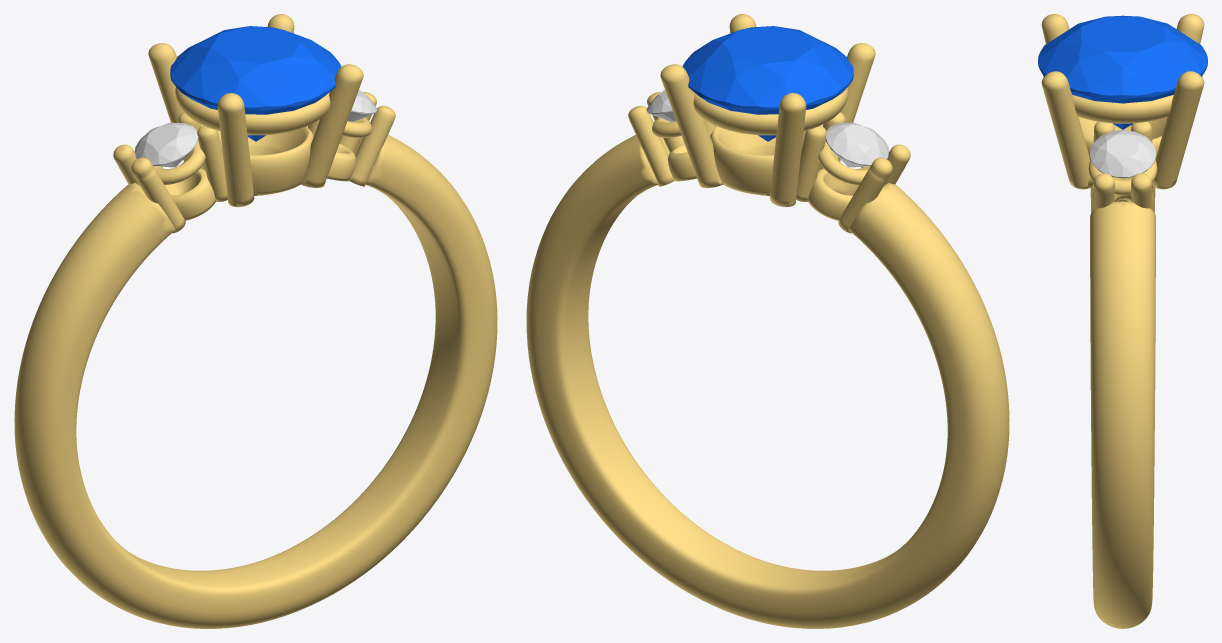
Rendered from bluesapphire-round-yellowgold-4prong-straightband-2stone.glb.
3 views of the same model, side by side, from view 1: azimuth 30°, elevation 25°; view 2: azimuth 150°, elevation 25°; view 3: azimuth 270°, elevation 25° (orthographic).
Visible parts, largest first — view 1: metal, stone, side.001; view 2: metal, stone, side.001; view 3: metal, stone, side.
Boxes of the visible parts, x1=… form: metal: x1=14, y1=14, x2=497, y2=628; stone: x1=170, y1=26, x2=341, y2=141; side.001: x1=134, y1=122, x2=198, y2=167; metal: x1=526, y1=14, x2=1009, y2=628; stone: x1=682, y1=26, x2=853, y2=141; side.001: x1=825, y1=122, x2=889, y2=167; metal: x1=1041, y1=14, x2=1204, y2=628; stone: x1=1038, y1=15, x2=1207, y2=129; side: x1=1090, y1=130, x2=1155, y2=178.
Size of the model in its own units: 20.5 by 23.81 by 6.44.
